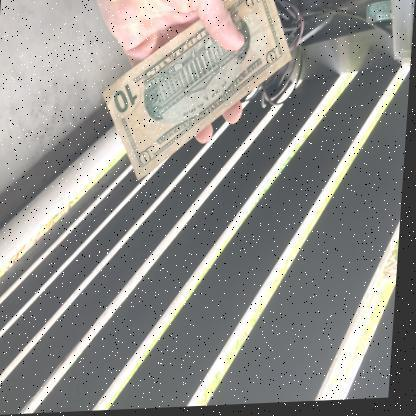ten-back: (101, 0, 293, 184)
